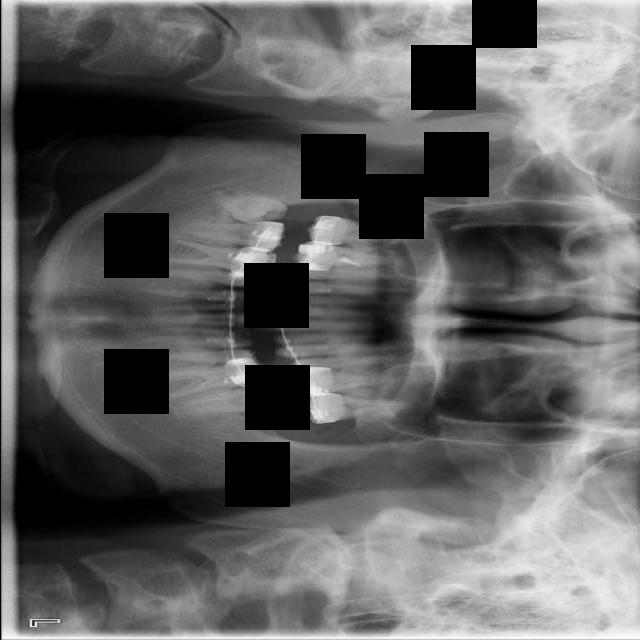73: (42, 604, 50, 608)
BioHorizons Implant: (302, 393, 415, 423)
Blue Sky Bio Implant: (175, 382, 286, 417)
Caries: (308, 216, 426, 245)
Implant: (179, 215, 286, 253)
Keystone Dental Implant: (204, 175, 290, 237)
